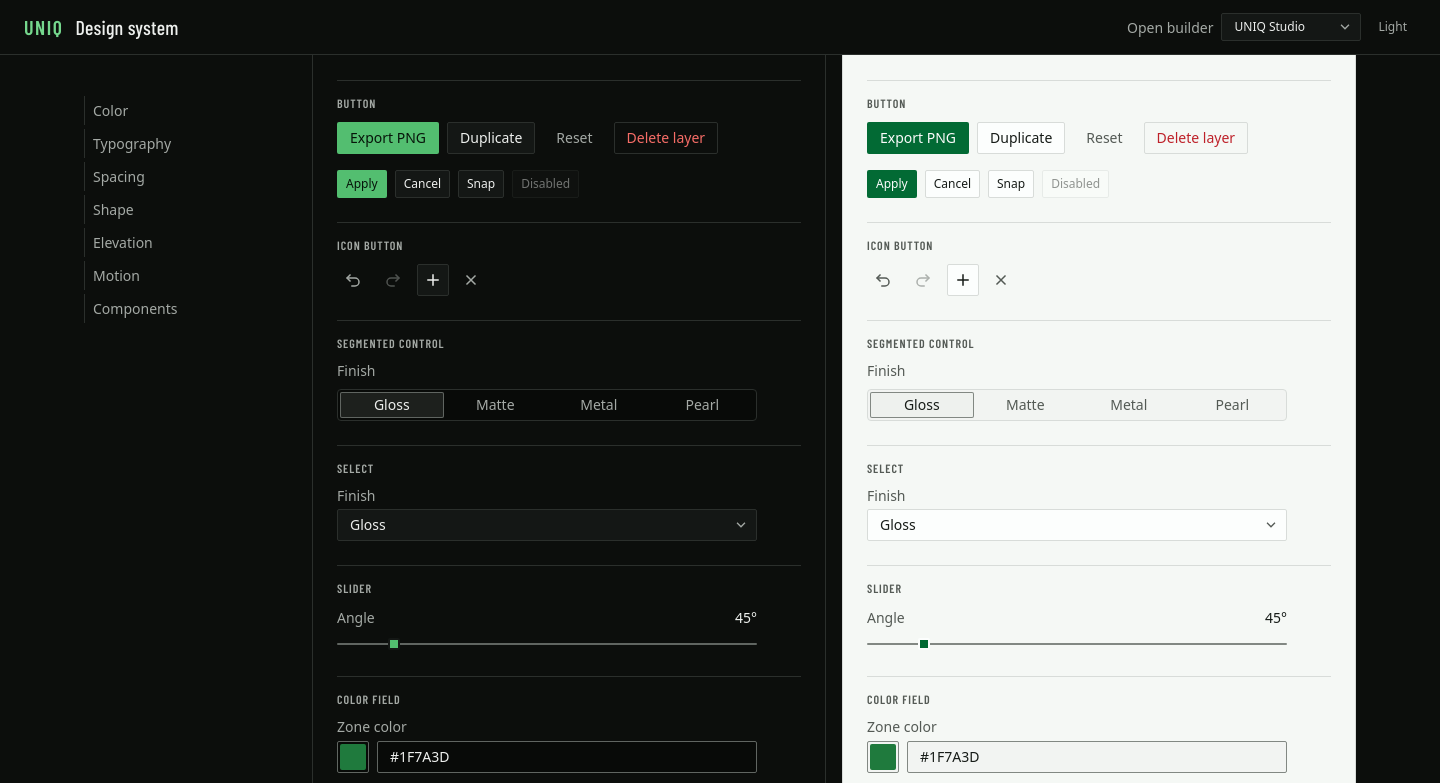
Test: DesignSystemPage › shares interactive state across the theme columns
(page scrolled)
Expected: the heading "Design system" is shown, [76,12,179,42]
Click the 1st radio button labelled "Matte".
click(495, 405)  # box [476,395,515,414]
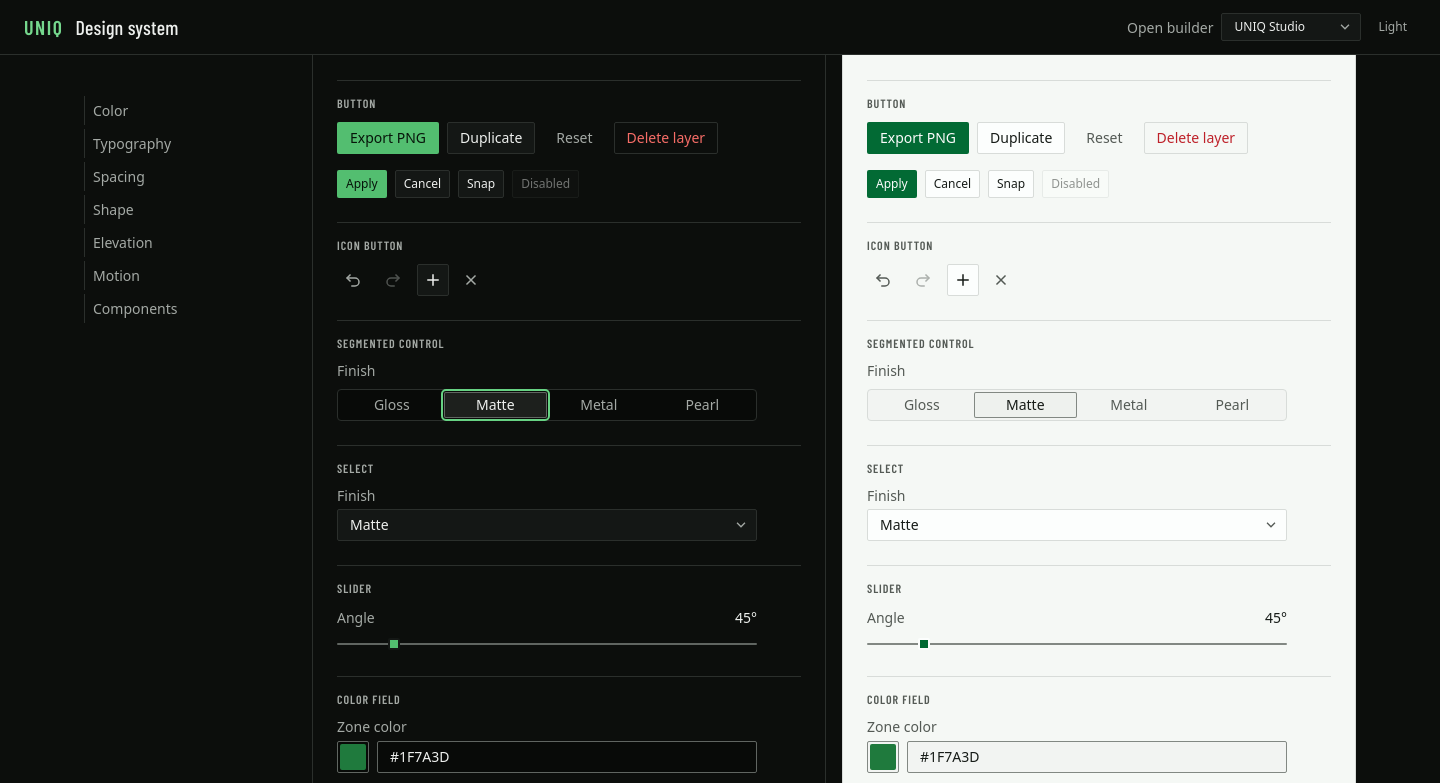
Expected: the 2nd radio button labelled "Matte" is checked, [974,392,1077,418]
Click the button "Snap" below "Dark".
click(481, 184)  # box [458,170,504,198]
(page scrolled)
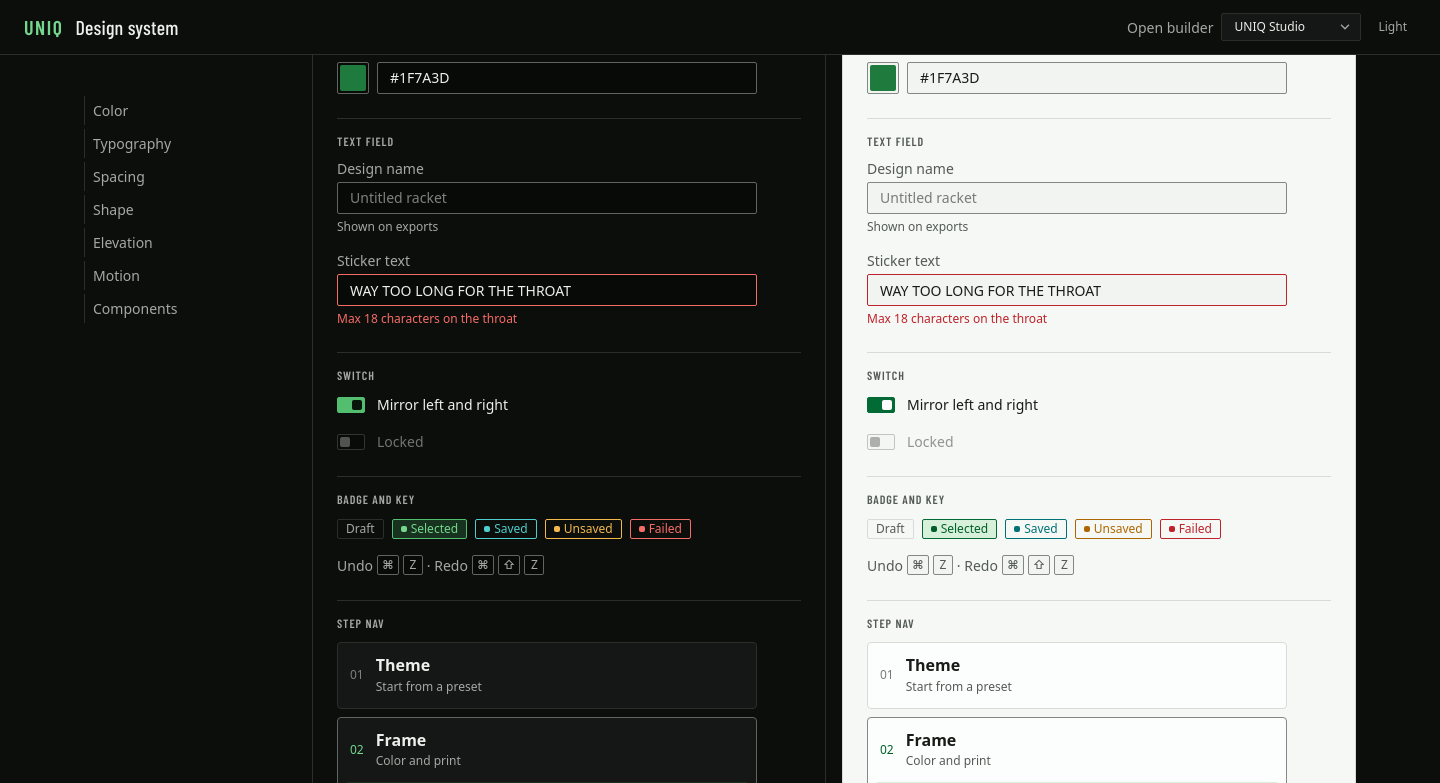
Click the 1st switch labelled "Mirror left and right".
click(442, 405)  # box [337,394,757,415]
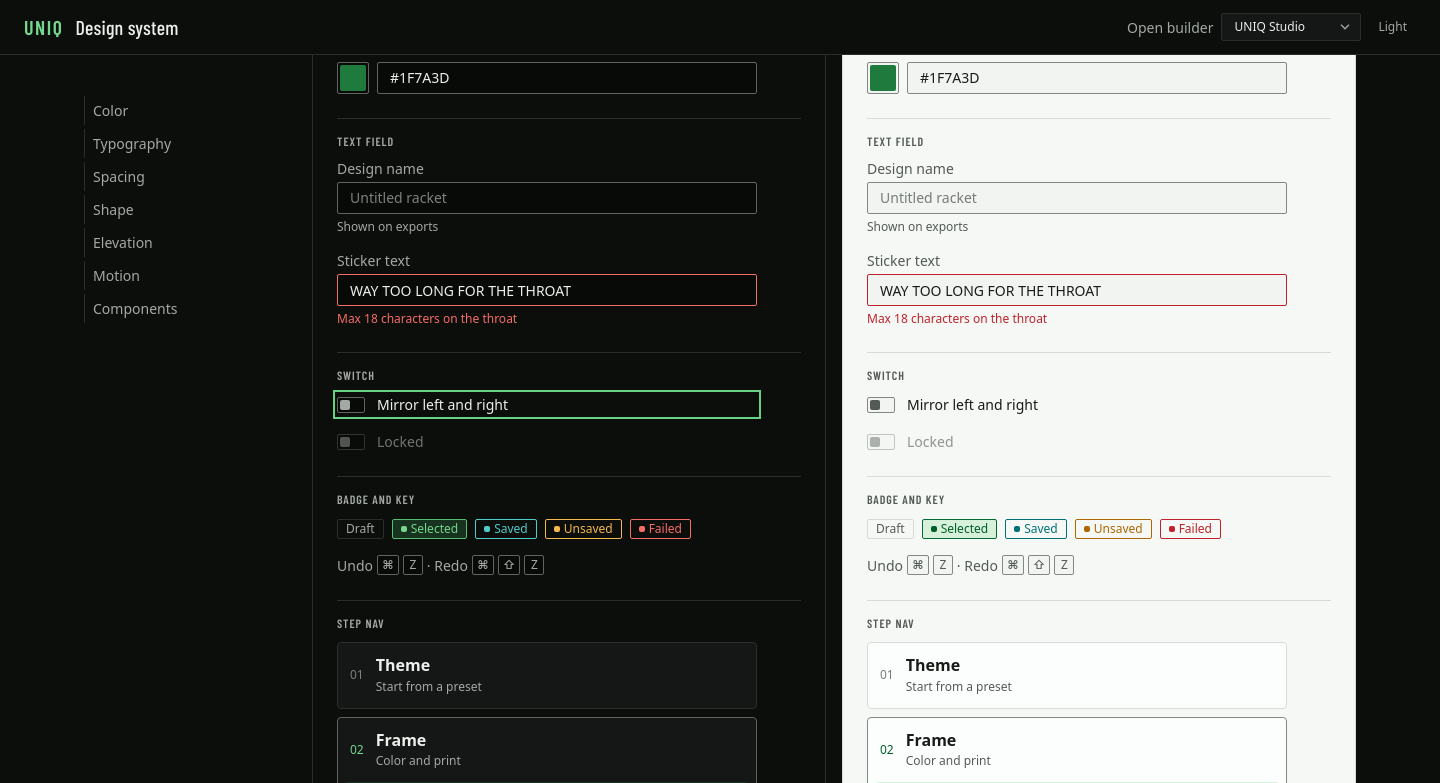
Expected: the 2nd switch labelled "Mirror left and right" is not checked, [867,394,1287,415]
Type "A" into the 1st field labelled "Design name".
click(547, 198); type("A")  # box [337,182,757,214]
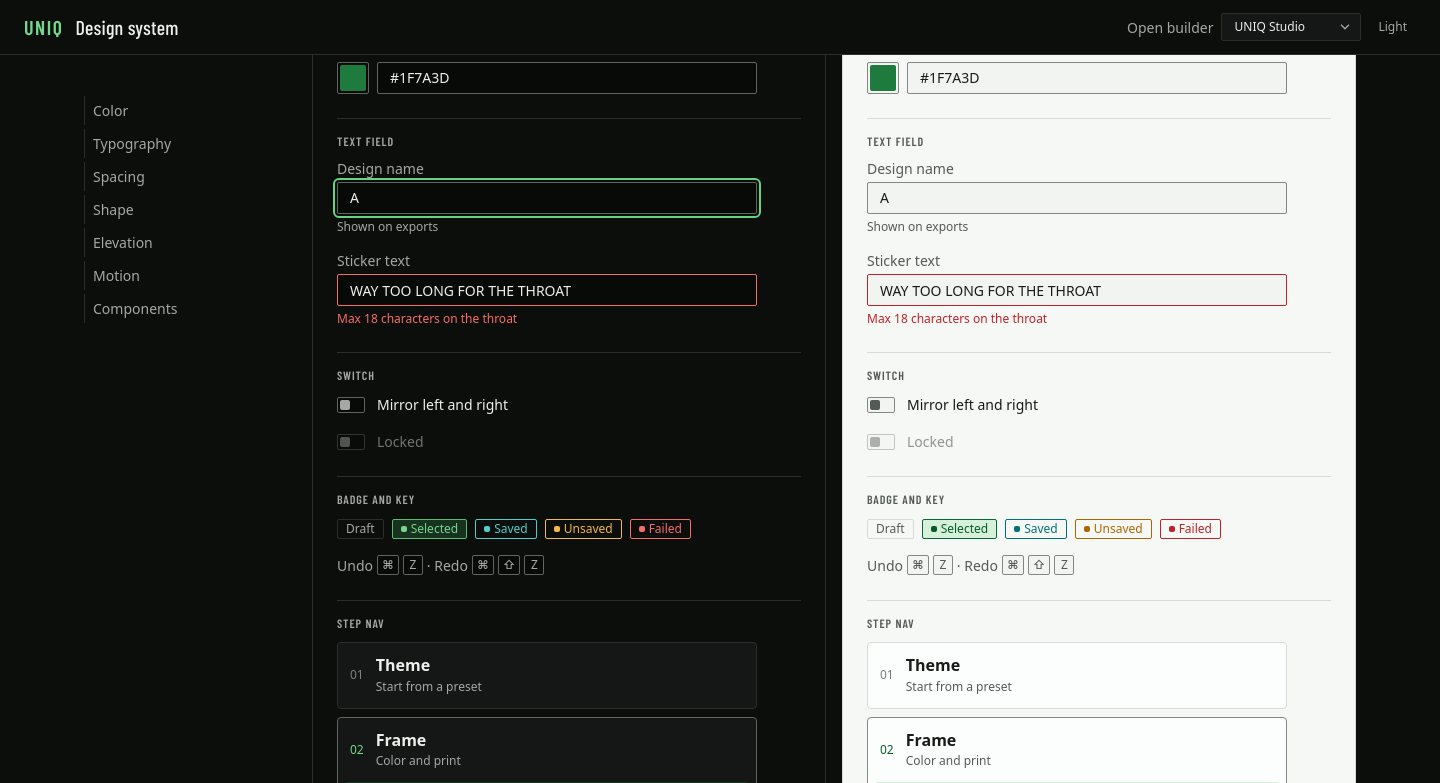
Expected: the 2nd field labelled "Design name" holds "A", [867,182,1287,214]
